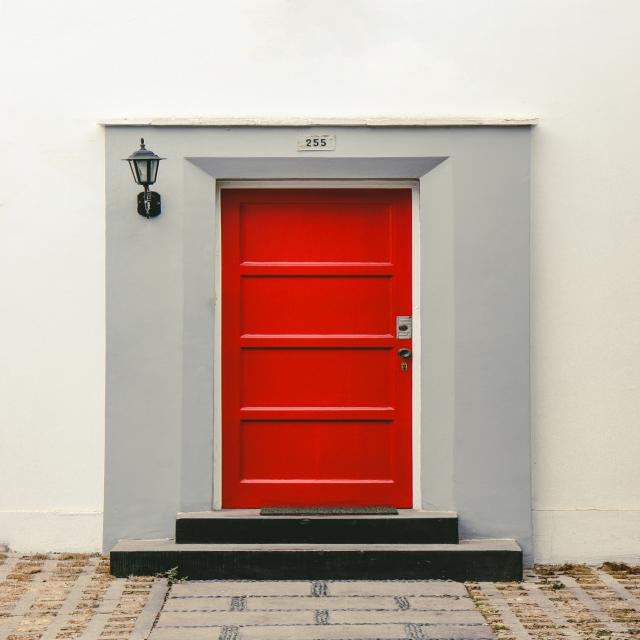Handle: (388, 307, 422, 382)
Staircase: (139, 483, 512, 581)
door: (212, 184, 420, 501)
